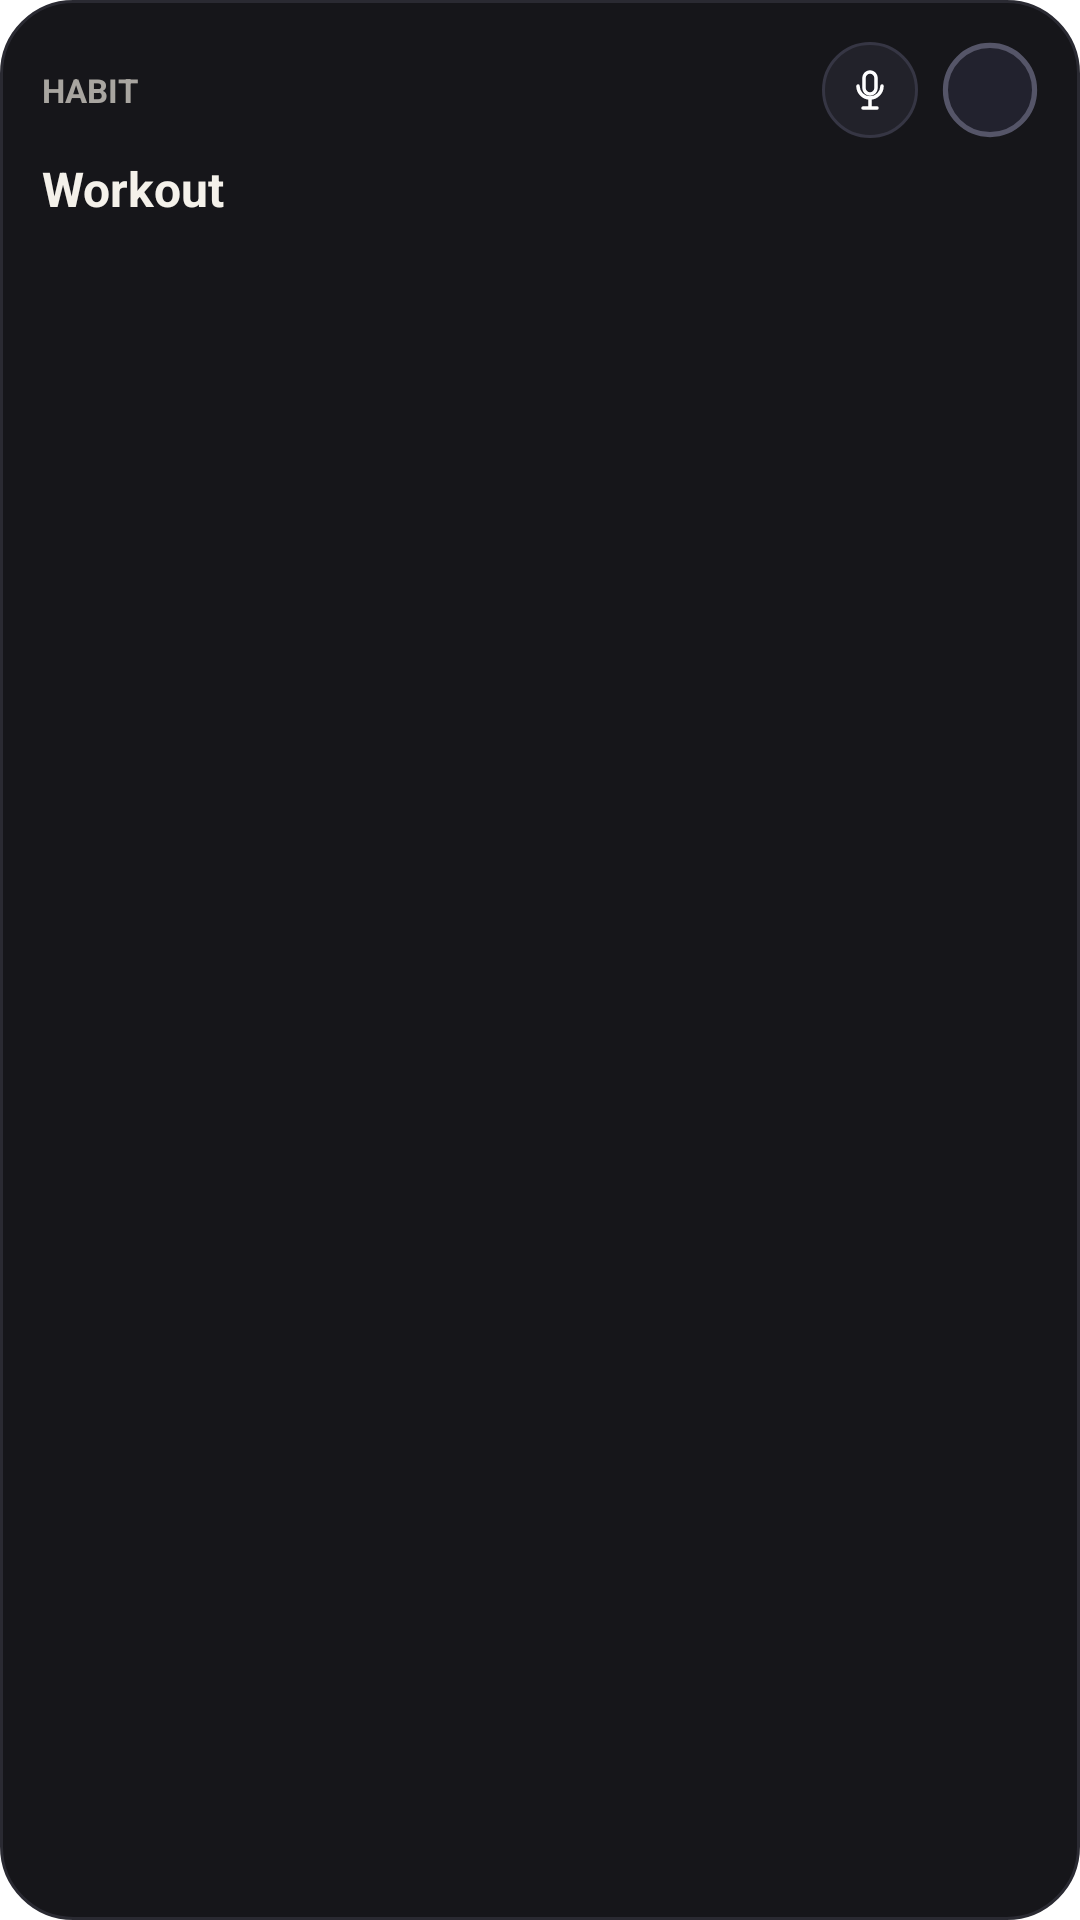

Screen size 1080x1920. Icon name, then its box in pixels as region(x1, y1, x2, y2):
mic minimal: region(856, 70, 884, 110)
